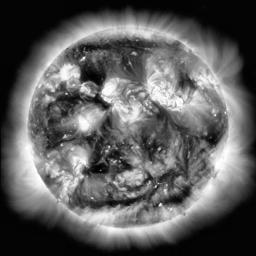solar flares: (150, 73, 182, 110), (59, 145, 93, 168), (59, 63, 81, 86), (97, 208, 129, 222), (116, 104, 143, 120), (103, 78, 121, 99), (77, 110, 94, 129), (78, 83, 97, 100)
sunspots: (78, 38, 113, 55), (166, 184, 190, 205), (95, 198, 145, 207), (84, 65, 106, 84), (56, 96, 78, 114), (45, 127, 62, 149), (113, 146, 130, 168), (122, 39, 150, 51), (94, 156, 110, 175), (143, 139, 157, 157), (182, 78, 196, 95), (205, 128, 219, 144), (98, 92, 109, 110), (89, 138, 103, 152), (99, 119, 113, 131)
